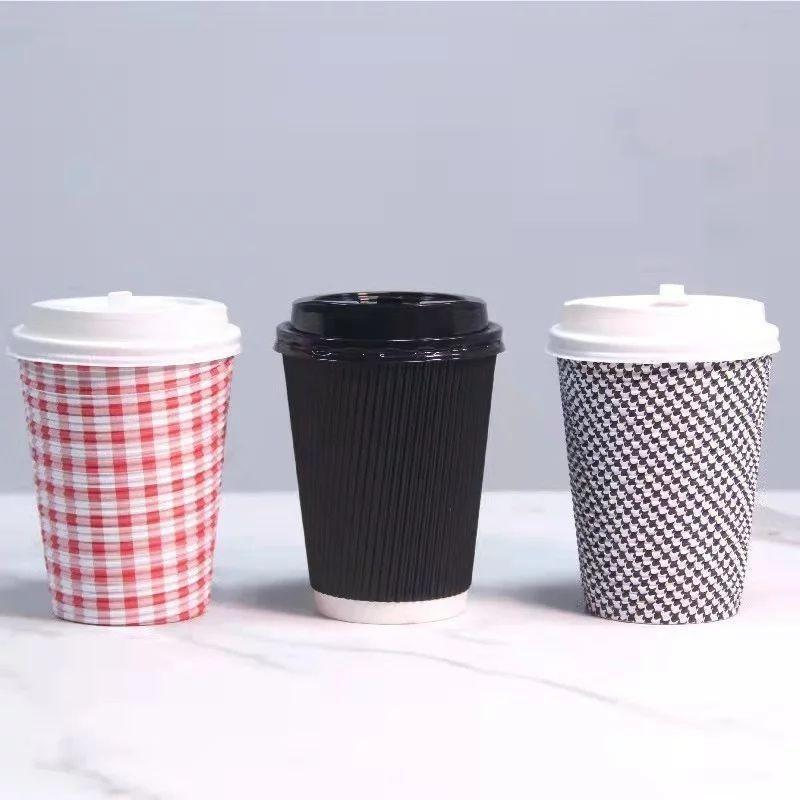cup-disposable: (551, 277, 788, 633), (9, 272, 237, 638), (275, 277, 508, 632)
